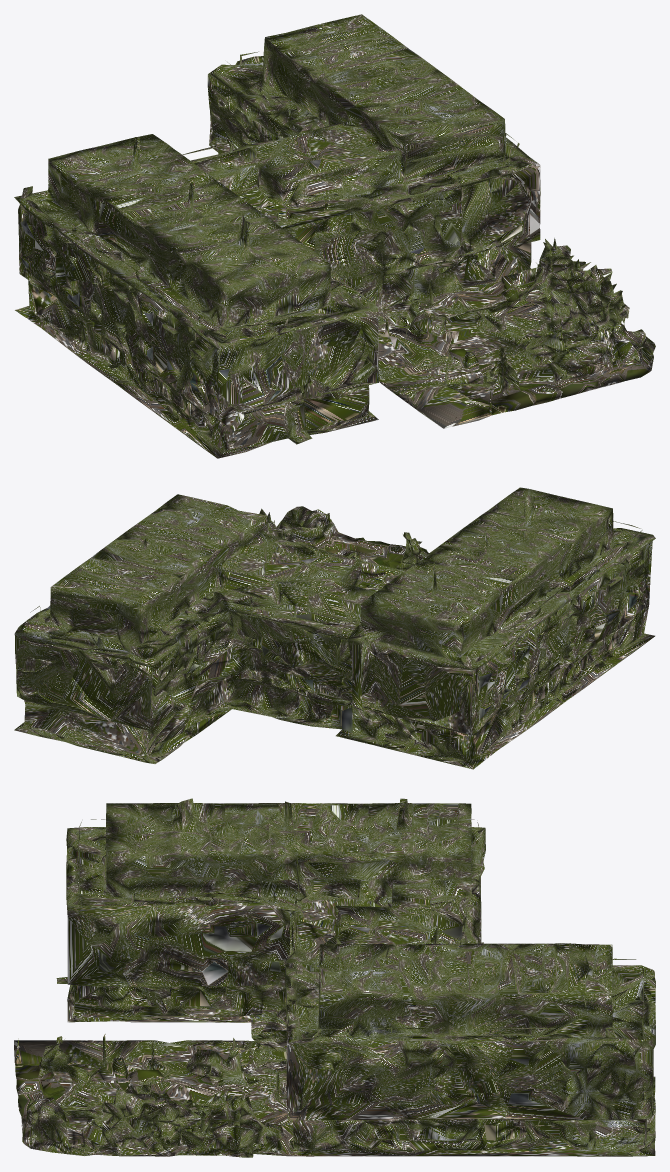
The model's file is ou_campus-low.glb.
3 views of the same model, one above another, from view 1: azimuth 30°, elevation 25°; view 2: azimuth 150°, elevation 25°; view 3: azimuth 270°, elevation 25° (orthographic). The views are drawn at different scales.
Bounding box in the file's own units: 1.56 × 0.6071 × 1.89.
Materials: 1 (1 with a texture image).
